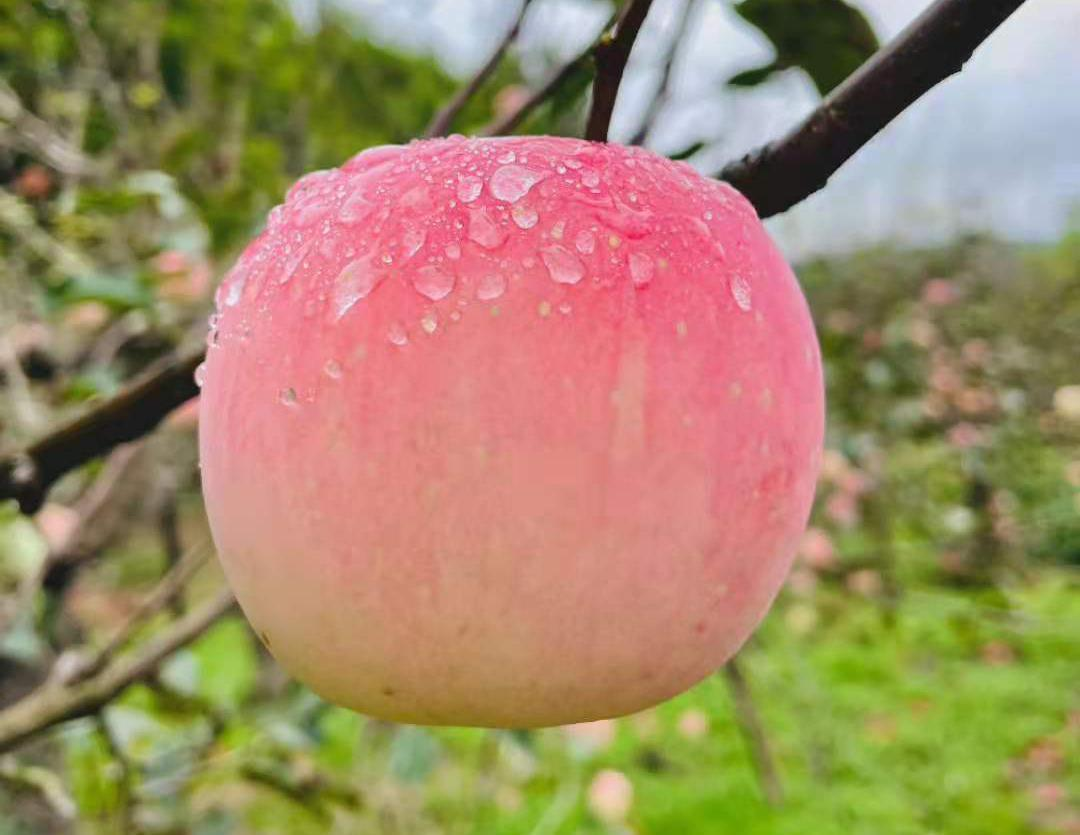apple: (192, 137, 823, 729)
